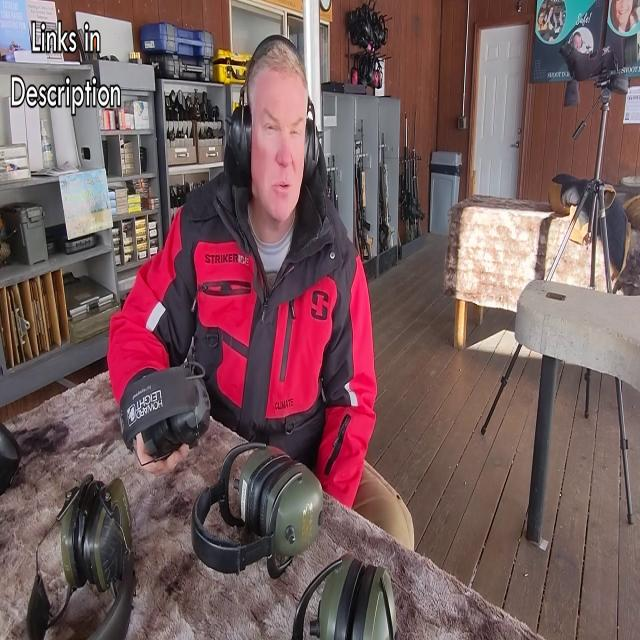earmuff: (222, 96, 254, 178), (303, 115, 327, 187)
